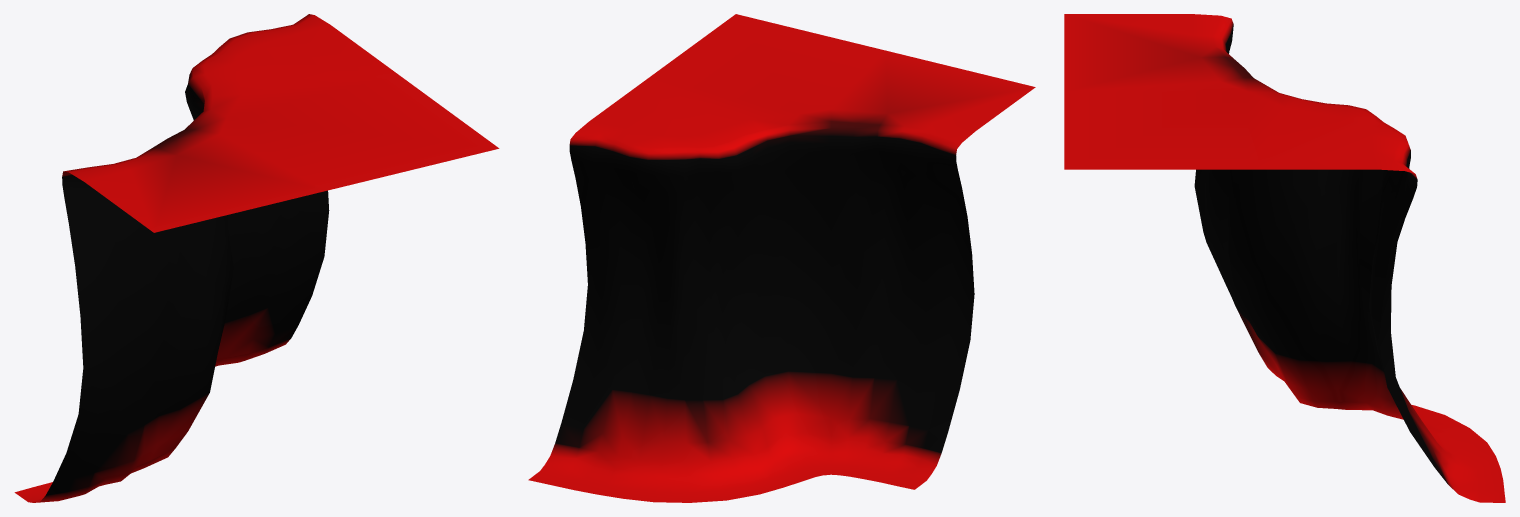
The model's file is GroundCliff05C 2M Background.fbx.
The picture shows the model from 3 angles, left to right: view 1: azimuth 30°, elevation 25°; view 2: azimuth 150°, elevation 25°; view 3: azimuth 270°, elevation 25°; orthographic projection. The views are drawn at different scales.
Visible parts, largest first — view 1: GroundCliff05C 2M Background; view 2: GroundCliff05C 2M Background; view 3: GroundCliff05C 2M Background.
Boxes of the visible parts, x1=… form: GroundCliff05C 2M Background: x1=14, y1=14, x2=499, y2=502; GroundCliff05C 2M Background: x1=528, y1=14, x2=1035, y2=502; GroundCliff05C 2M Background: x1=1064, y1=14, x2=1505, y2=502.
Bounding box in the file's own units: 2 × 2 × 2.4.
